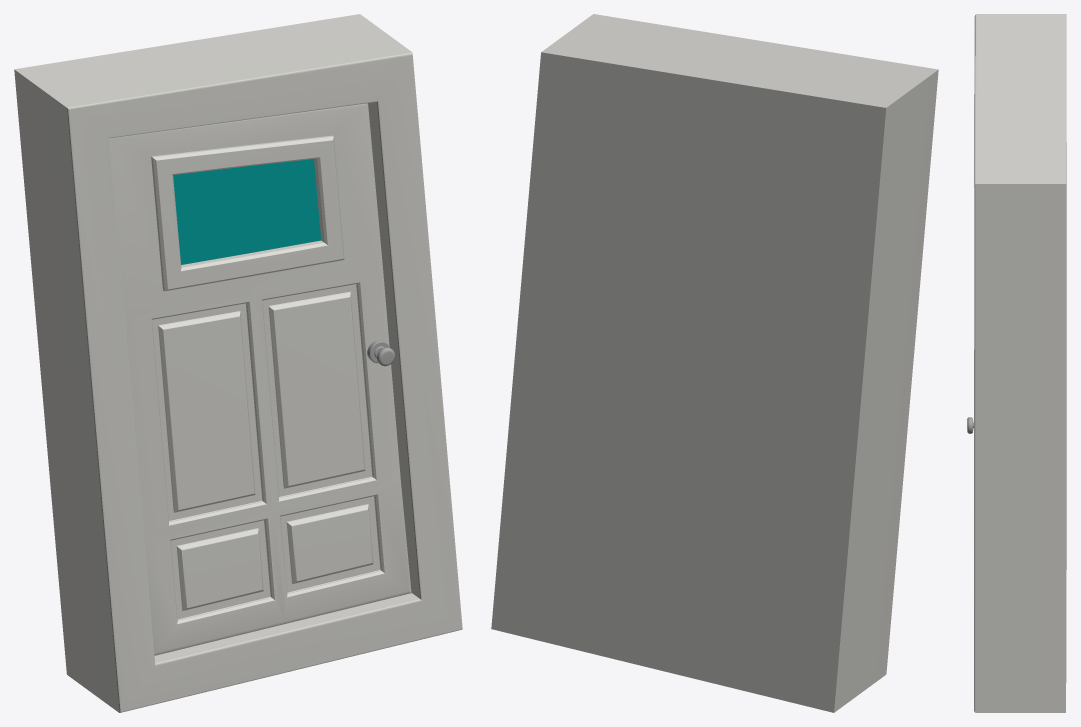
Rendered from Mesh_EDH_Door1_.fbx.
The picture shows the model from 3 angles, left to right: view 1: azimuth 30°, elevation 25°; view 2: azimuth 150°, elevation 25°; view 3: azimuth 270°, elevation 25°; orthographic projection. The views are drawn at different scales.
Parts seen in each view (by area): view 1: polySurface148; view 2: polySurface148; view 3: polySurface148.
Boxes of the visible parts, x1=… form: polySurface148: x1=14, y1=14, x2=462, y2=712; polySurface148: x1=491, y1=14, x2=938, y2=712; polySurface148: x1=967, y1=14, x2=1066, y2=712.
Size of the model in its own units: 71.61 by 107 by 18.13.
